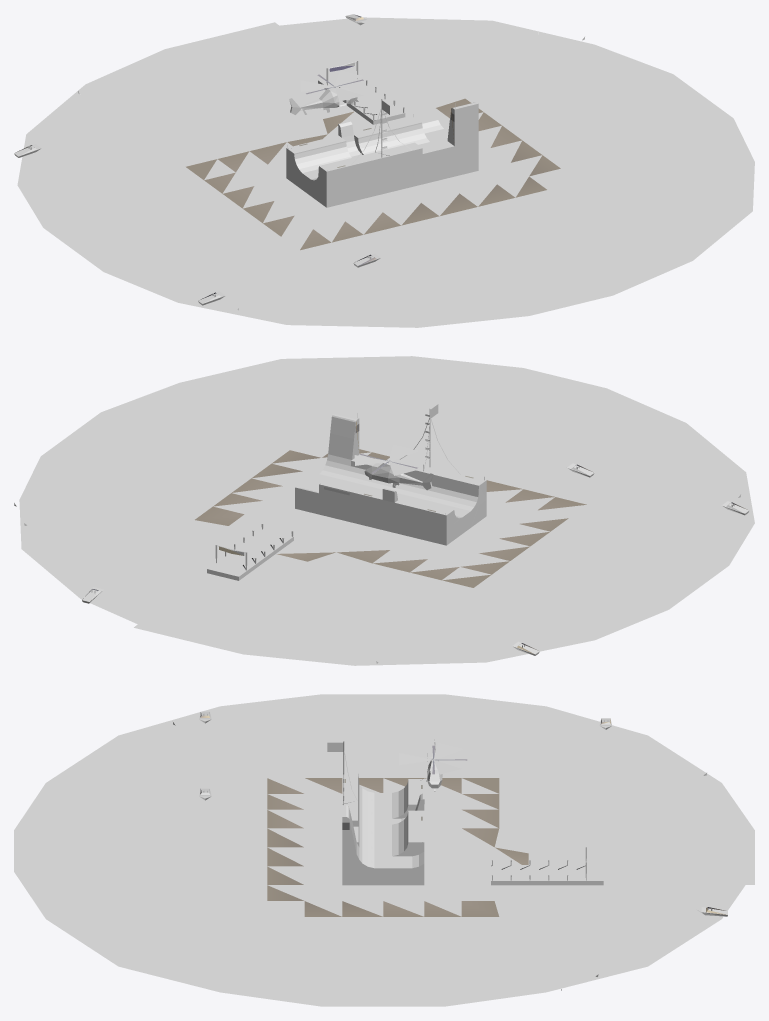
3 renders of one model, top to bottom at view 1: azimuth 30°, elevation 25°; view 2: azimuth 150°, elevation 25°; view 3: azimuth 270°, elevation 25°, orthographic.
Visible parts, largest first — view 1: SKB1_Col_Floor, SKB1_Col_Ride, SKB1_Mesh_00, SKB1_Col_Pipe, SKB1_Col_Wall; view 2: SKB1_Col_Floor, SKB1_Mesh_00, SKB1_Col_Ride, SKB1_Col_Pipe, SKB1_Col_Wall; view 3: SKB1_Col_Floor, SKB1_Mesh_00, SKB1_Col_Pipe, SKB1_Col_Ride, SKB1_Col_Wall.
Part boxes in pixels (<box>): SKB1_Col_Floor: <box>14,14,754,327</box>; SKB1_Col_Ride: <box>286,95,478,207</box>; SKB1_Mesh_00: <box>17,15,560,299</box>; SKB1_Col_Pipe: <box>287,117,453,180</box>; SKB1_Col_Wall: <box>14,37,584,309</box>; SKB1_Col_Floor: <box>15,356,754,665</box>; SKB1_Mesh_00: <box>83,422,746,653</box>; SKB1_Col_Ride: <box>295,418,486,545</box>; SKB1_Col_Pipe: <box>303,454,486,518</box>; SKB1_Col_Wall: <box>14,404,748,663</box>; SKB1_Col_Floor: <box>14,694,754,1006</box>; SKB1_Mesh_00: <box>200,715,726,916</box>; SKB1_Col_Pipe: <box>342,773,424,867</box>; SKB1_Col_Ride: <box>342,739,442,885</box>; SKB1_Col_Wall: <box>173,714,712,990</box>.
Size of the model in its own units: 209 by 30.09 by 210.
